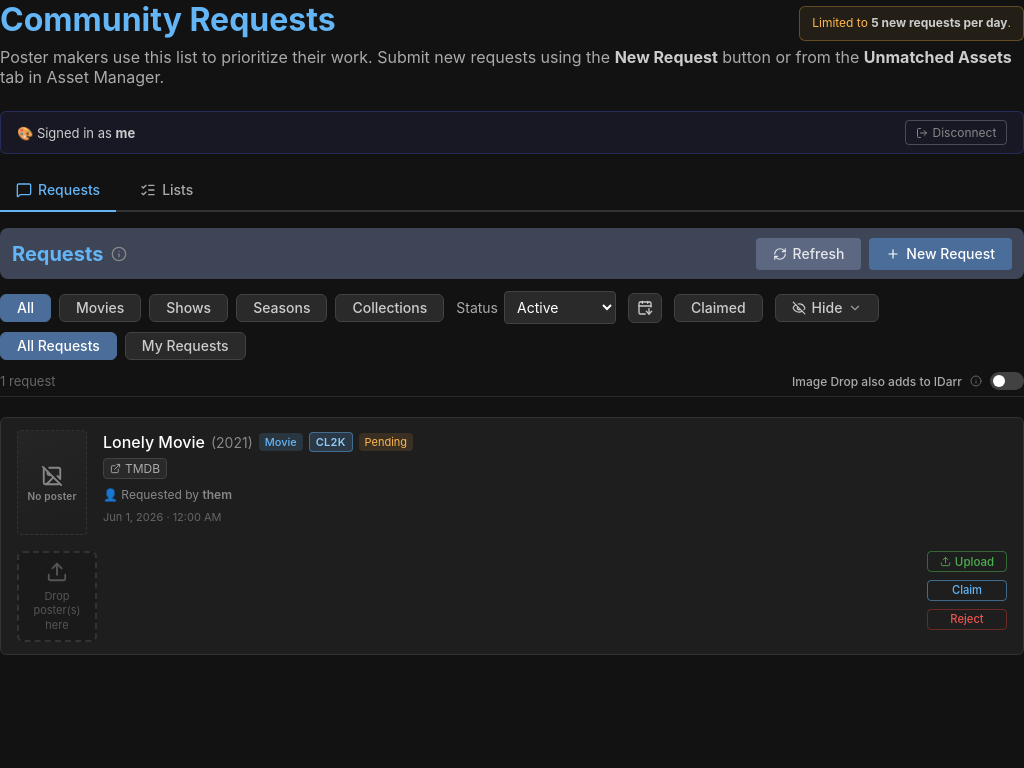
Requests page: Reject › asks for a reason before rejecting, then shows it on the card
The width and height of the screenshot is (1024, 768).
Check: the text "Lonely Movie" is shown, box [103,432,205,452]
Click the button "Reject".
click(967, 619)  # box [927,609,1007,630]
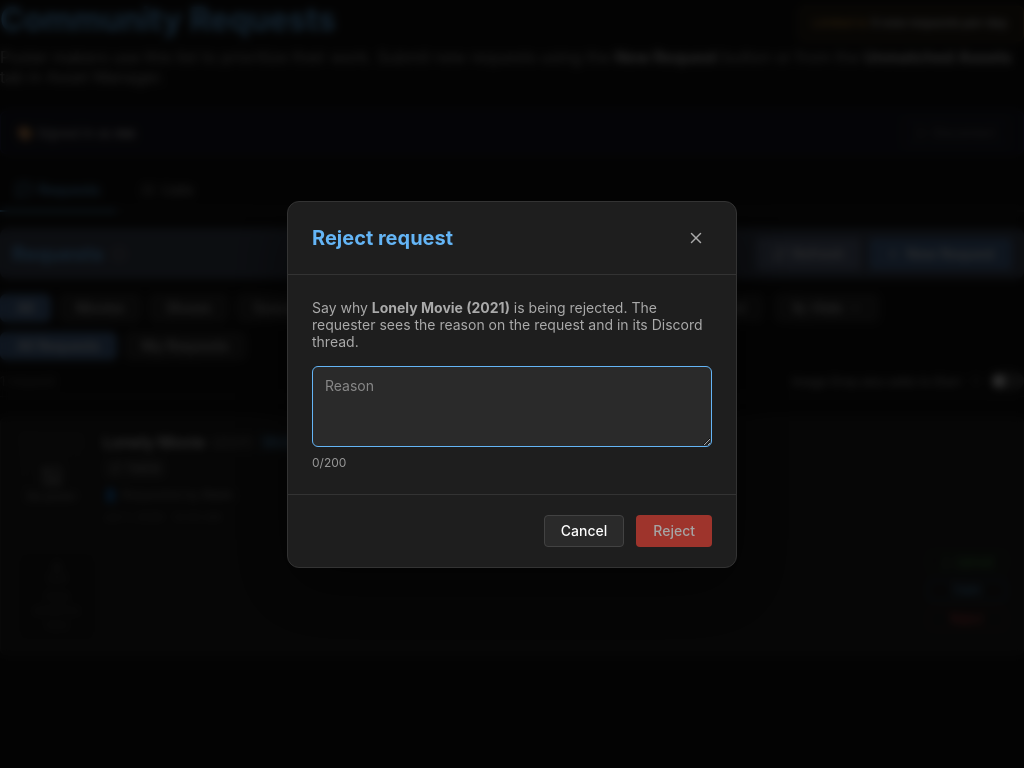
Check: the heading "Reject request" is shown, box [312,226,453,250]
Check: the button "Reject" is disabled, box [636,514,712,546]
Type "  Already in the drive  " into the text box named "Reason for rejecting".
click(512, 406); type("  Already in the drive  ")  # box [312,366,712,446]
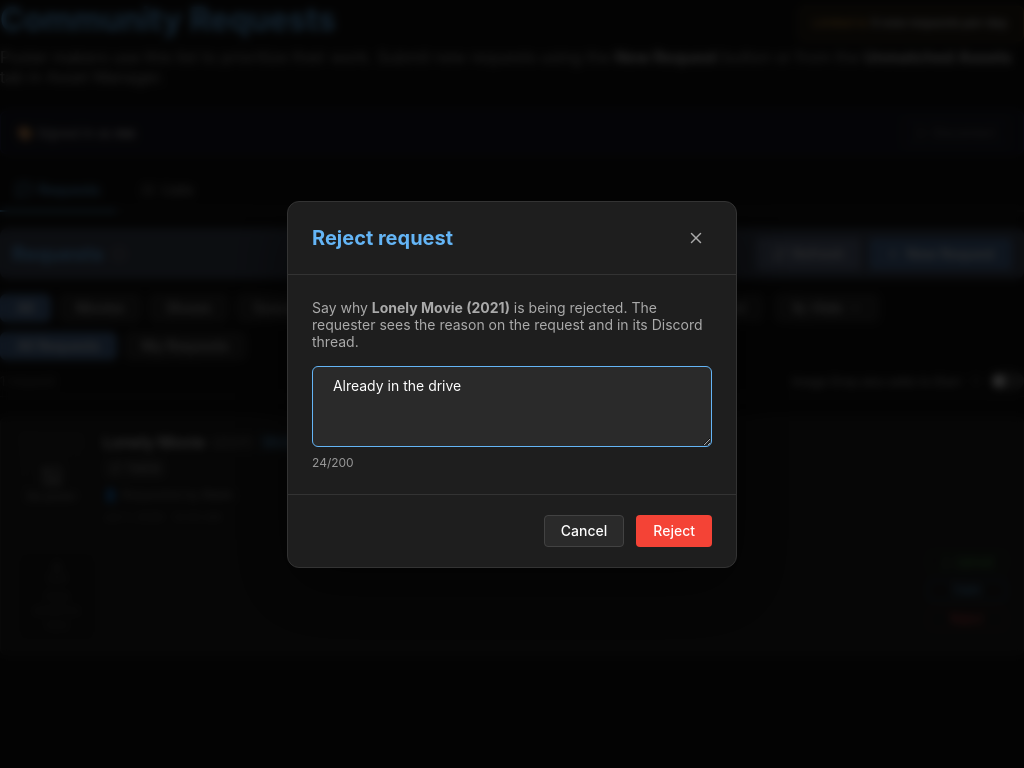
Check: the button "Reject" is enabled
Click the button "Reject".
click(674, 530)  # box [636,514,712,546]
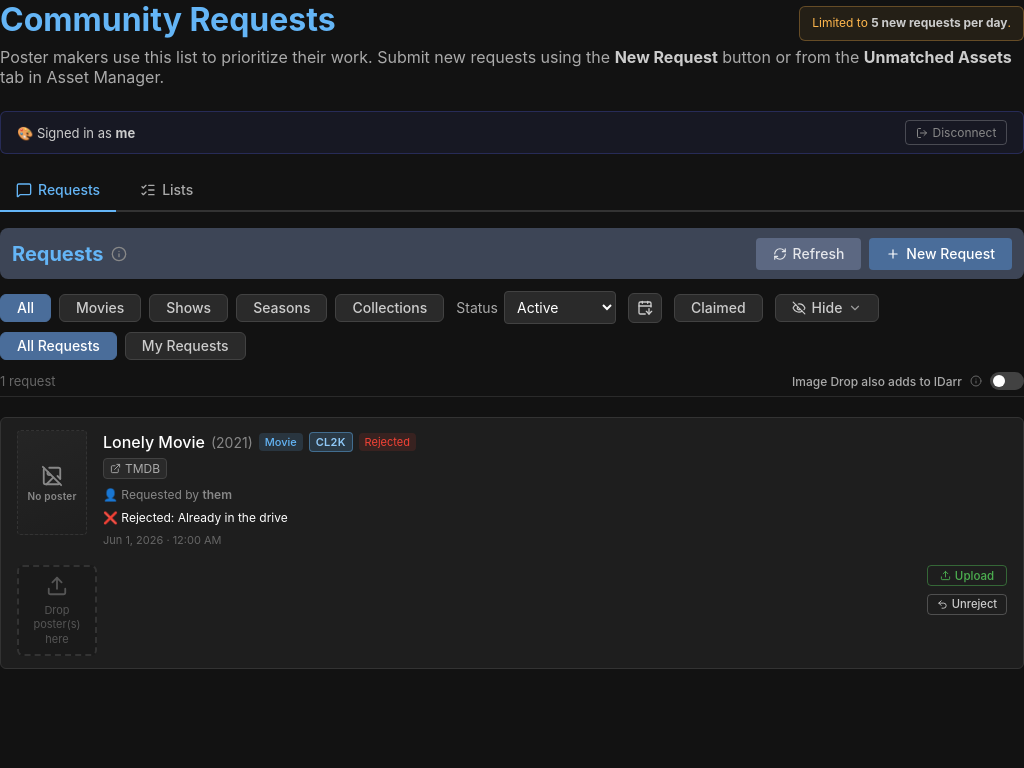
Check: the heading "Reject request" is gone
Check: the text "❌ Rejected: Already in the drive" is shown, box [103,510,288,525]
